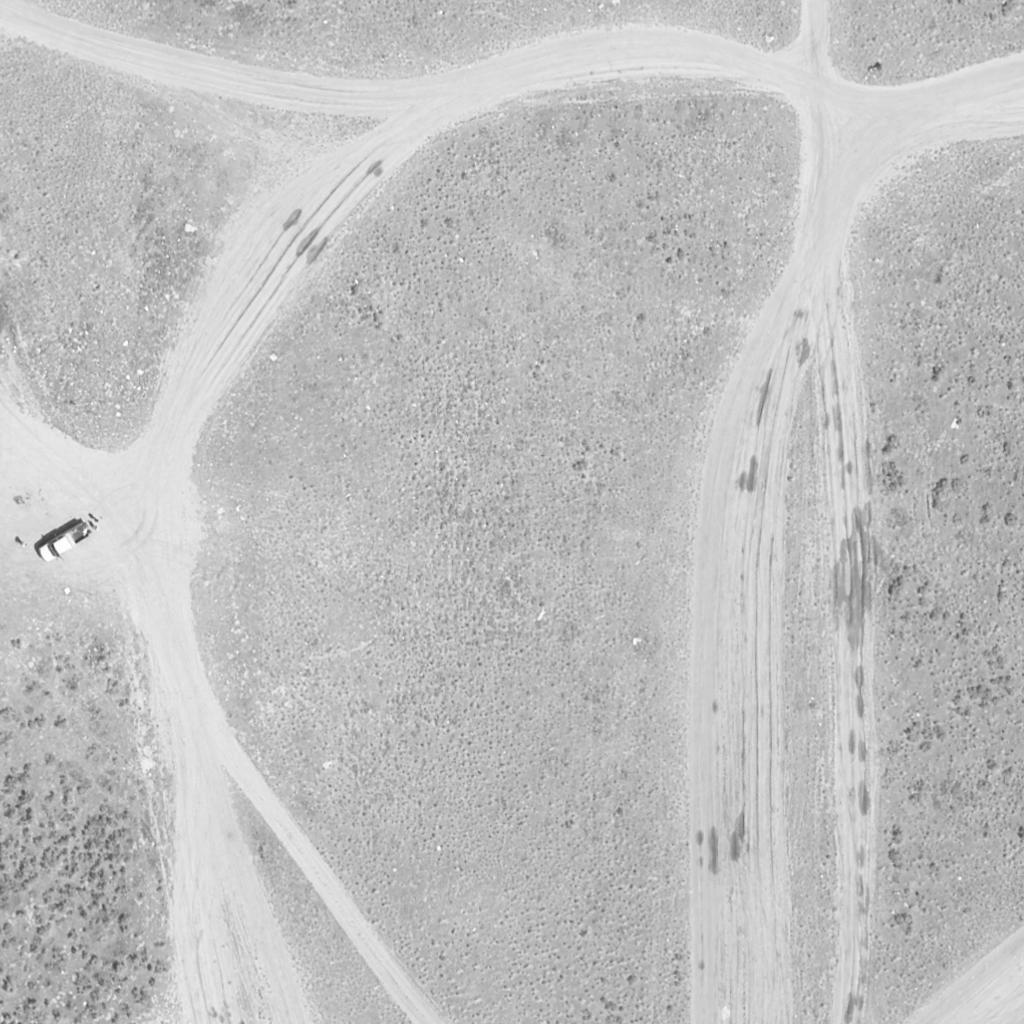vehicle: (36, 521, 92, 565)
